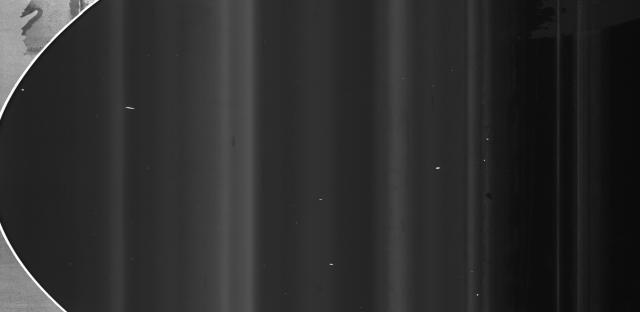crescent_gap: (0, 0, 158, 311)
